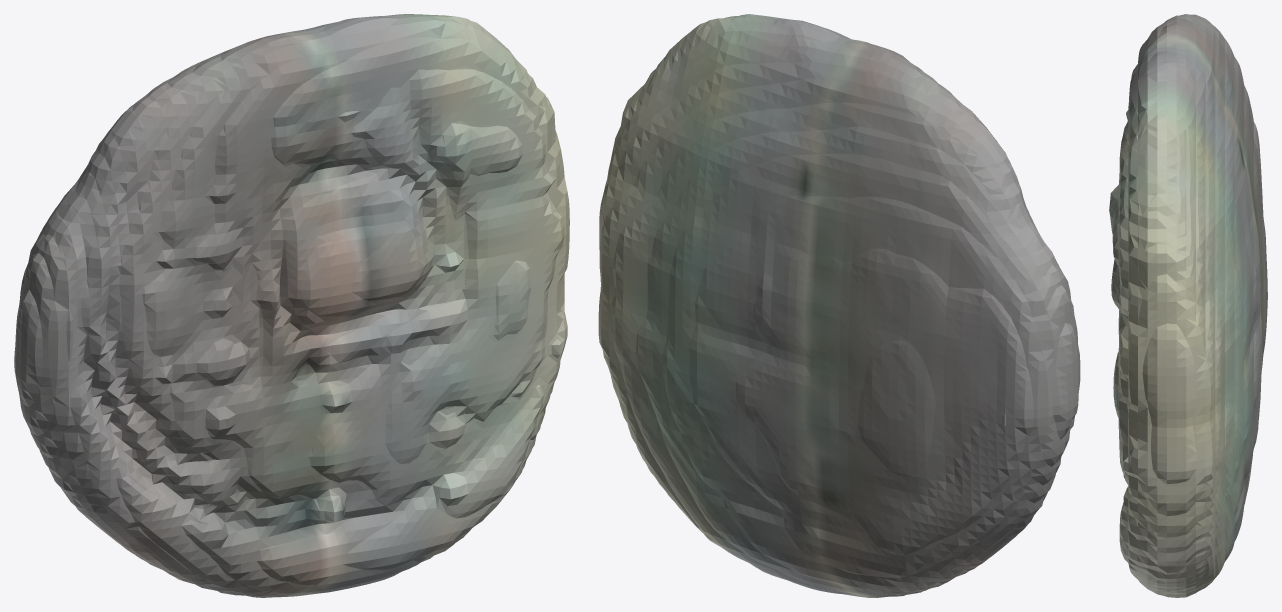
3 views of the same model, side by side, from view 1: azimuth 30°, elevation 25°; view 2: azimuth 150°, elevation 25°; view 3: azimuth 270°, elevation 25° (orthographic). The views are drawn at different scales.
Visible parts, largest first — view 1: geometry_0; view 2: geometry_0; view 3: geometry_0.
Part boxes in pixels (x1,y1,x2,y2): geometry_0: [14, 14, 569, 597]; geometry_0: [598, 14, 1080, 597]; geometry_0: [1109, 14, 1267, 597].
Size of the model in its own units: 0.2535 by 0.2688 by 0.0747.
